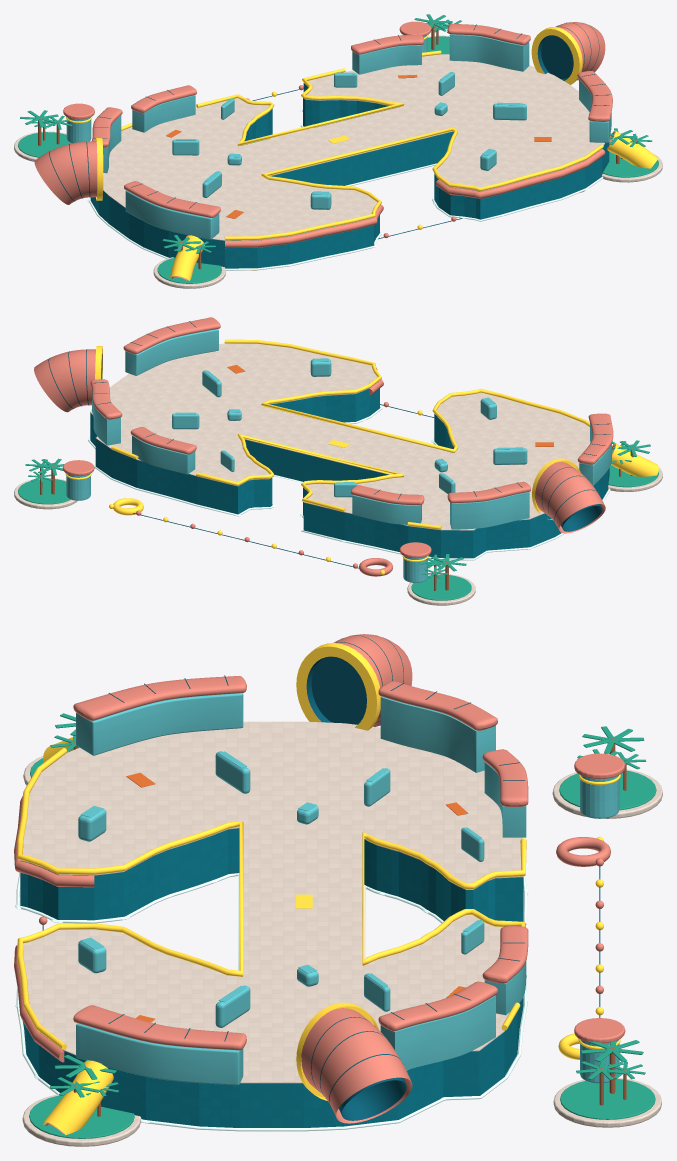
File: twin_bays_art_v7_foreground.glb
The picture shows the model from 3 angles, top to bottom: view 1: azimuth 30°, elevation 25°; view 2: azimuth 150°, elevation 25°; view 3: azimuth 270°, elevation 25°; orthographic projection. The views are drawn at different scales.
Parts seen in each view (by area): view 1: Foreground_TBSA_DryCream, Foreground_TBSA_CyanDark, Foreground_TBSA_CoralSoft, Foreground_TBSA_Cyan, Foreground_TBSA_SafetyYellow, Foreground_TBSA_IslandGreen, Foreground_TBSA_PortalRecess, Foreground_TBSA_ContactFoam, Foreground_TBSA_PalmTrunk; view 2: Foreground_TBSA_DryCream, Foreground_TBSA_CyanDark, Foreground_TBSA_CoralSoft, Foreground_TBSA_Cyan, Foreground_TBSA_SafetyYellow, Foreground_TBSA_IslandGreen, Foreground_TBSA_PortalRecess, Foreground_TBSA_ContactFoam; view 3: Foreground_TBSA_DryCream, Foreground_TBSA_Cyan, Foreground_TBSA_CyanDark, Foreground_TBSA_CoralSoft, Foreground_TBSA_SafetyYellow, Foreground_TBSA_IslandGreen, Foreground_TBSA_PortalRecess, Foreground_TBSA_ContactFoam, Foreground_TBSA_PalmTrunk.
Boxes of the visible parts, left/top/right/bottom form: Foreground_TBSA_DryCream: left=14, top=35, right=662, bottom=288; Foreground_TBSA_CyanDark: left=90, top=83, right=609, bottom=268; Foreground_TBSA_CoralSoft: left=34, top=21, right=615, bottom=280; Foreground_TBSA_Cyan: left=66, top=34, right=611, bottom=239; Foreground_TBSA_SafetyYellow: left=66, top=27, right=658, bottom=280; Foreground_TBSA_IslandGreen: left=18, top=14, right=658, bottom=283; Foreground_TBSA_PortalRecess: left=49, top=22, right=610, bottom=239; Foreground_TBSA_ContactFoam: left=88, top=109, right=603, bottom=270; Foreground_TBSA_PalmTrunk: left=38, top=21, right=637, bottom=269; Foreground_TBSA_DryCream: left=14, top=343, right=662, bottom=605; Foreground_TBSA_CyanDark: left=90, top=382, right=609, bottom=558; Foreground_TBSA_CoralSoft: left=34, top=317, right=615, bottom=576; Foreground_TBSA_Cyan: left=66, top=329, right=611, bottom=582; Foreground_TBSA_SafetyYellow: left=65, top=339, right=658, bottom=575; Foreground_TBSA_IslandGreen: left=18, top=440, right=658, bottom=600; Foreground_TBSA_PortalRecess: left=48, top=321, right=610, bottom=568; Foreground_TBSA_ContactFoam: left=88, top=405, right=610, bottom=560; Foreground_TBSA_DryCream: left=20, top=721, right=662, bottom=1146; Foreground_TBSA_Cyan: left=76, top=693, right=619, bottom=1085; Foreground_TBSA_CyanDark: left=20, top=828, right=523, bottom=1127; Foreground_TBSA_CoralSoft: left=14, top=634, right=625, bottom=1133; Foreground_TBSA_SafetyYellow: left=17, top=643, right=620, bottom=1134; Foreground_TBSA_IslandGreen: left=29, top=713, right=656, bottom=1138; Foreground_TBSA_PortalRecess: left=42, top=635, right=600, bottom=1120; Foreground_TBSA_ContactFoam: left=15, top=873, right=528, bottom=1131; Foreground_TBSA_PalmTrunk: left=73, top=738, right=626, bottom=1116.
Bounding box in the file's own units: 138 × 19.57 × 85.1.
Materials: 10 (4 with a texture image).
